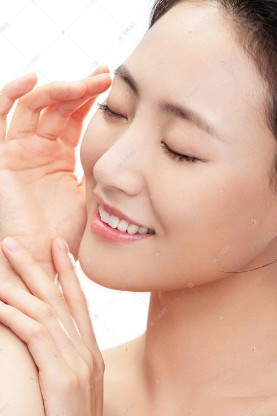闭眼: (155, 125, 206, 168), (95, 94, 128, 124)
